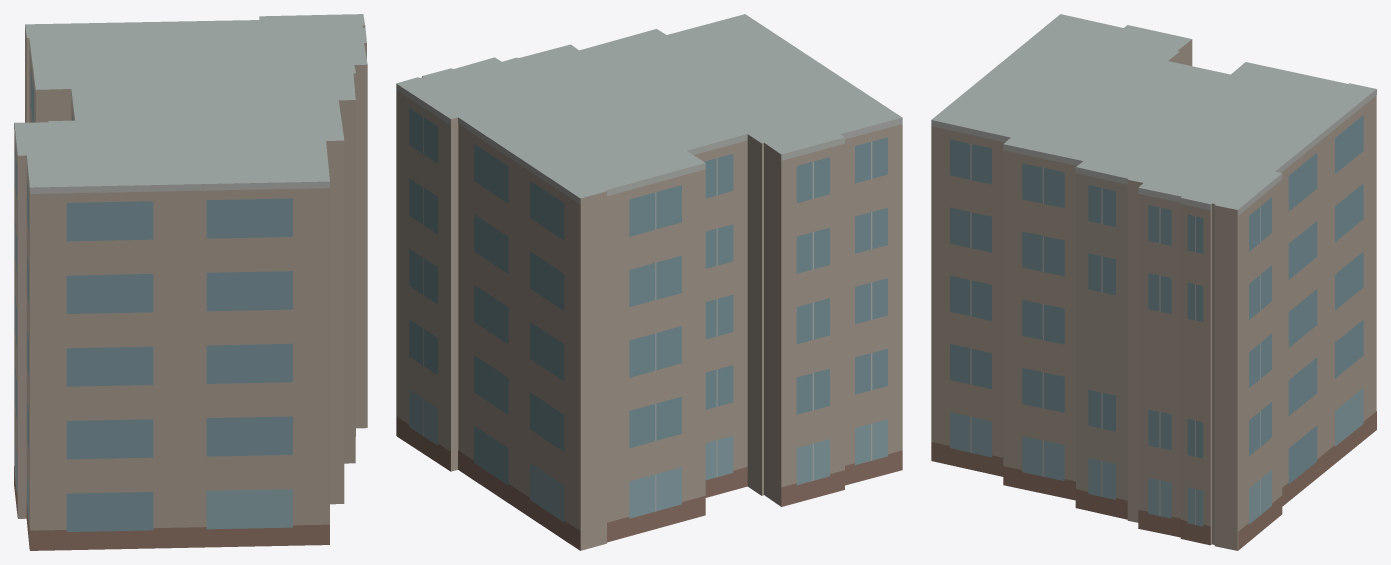
The model's file is survey-upis-32951247.glb.
3 renders of one model, left to right at view 1: azimuth 30°, elevation 25°; view 2: azimuth 150°, elevation 25°; view 3: azimuth 270°, elevation 25°, orthographic. The views are drawn at different scales.
Parts seen in each view (by area): view 1: survey-upis-32951247.tmp; view 2: survey-upis-32951247.tmp; view 3: survey-upis-32951247.tmp.
Boxes of the visible parts, <box> form: survey-upis-32951247.tmp: <box>14,14,367,550</box>; survey-upis-32951247.tmp: <box>396,14,902,550</box>; survey-upis-32951247.tmp: <box>931,14,1376,550</box>.
Size of the model in its own units: 16.77 by 13.6 by 16.11.
